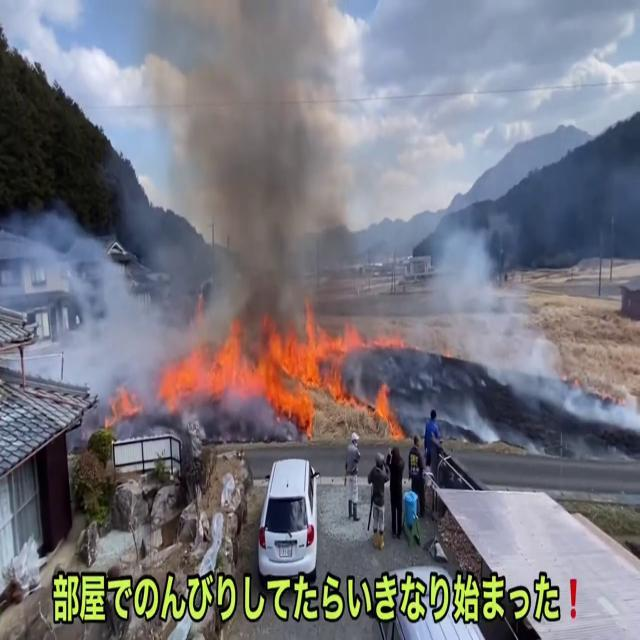Fire: (156, 309, 374, 422)
Smoke: (137, 1, 376, 344), (408, 208, 566, 408)
